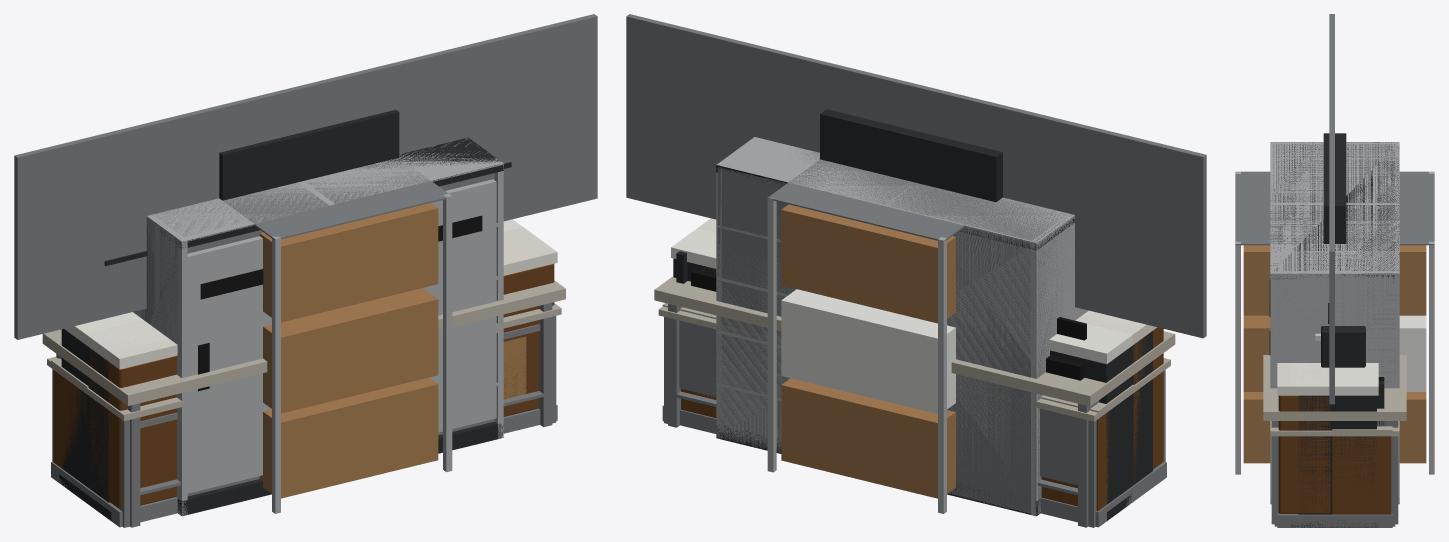
Rendered from hero-s2.glb.
3 renders of one model, left to right at view 1: azimuth 30°, elevation 25°; view 2: azimuth 150°, elevation 25°; view 3: azimuth 270°, elevation 25°, orthographic. The views are drawn at different scales.
Parts seen in each view (by area): view 1: logoWall.steel, stockShelf.cardboard, switchBoard.galv, mailCage.galv, receptionCounter.oak, liftDoor.steelDark, stockShelf.steel, sortingTable.laminate, switchBoard.steelDark, cafeCounter.steelDark, stockShelf.galv, switchBoard.steel (+8 smaller); view 2: logoWall.steel, switchBoard.steel, mailCage.galv, stockShelf.cardboard, stockShelf.white, liftDoor.steelDark, cafeCounter.steelDark, bmsDesk.steel, sortingTable.laminate, stockShelf.galv, stockShelf.steel, receptionCounter.oak (+7 smaller); view 3: mailCage.galv, receptionCounter.oak, stockShelf.cardboard, stockShelf.steel, switchBoard.steelDark, cafeCounter.steelDark, sortingTable.laminate, stockShelf.galv, logoWall.steel, switchBoard.steel, liftDoor.steelDark, cafeCounter.whiteGloss (+7 smaller).
Part boxes in pixels (x1,y1,x2,y2): logoWall.steel: (14, 14, 597, 339); stockShelf.cardboard: (259, 203, 438, 498); switchBoard.galv: (186, 179, 496, 493); mailCage.galv: (133, 138, 503, 516); receptionCounter.oak: (53, 263, 554, 509); liftDoor.steelDark: (219, 109, 399, 200); stockShelf.steel: (223, 158, 449, 240); sortingTable.laminate: (42, 280, 565, 405); switchBoard.steelDark: (156, 137, 503, 515); cafeCounter.steelDark: (59, 329, 111, 520); stockShelf.galv: (272, 194, 452, 513); switchBoard.steel: (134, 173, 494, 496); logoWall.steel: (626, 14, 1206, 338); switchBoard.steel: (717, 147, 1072, 514); mailCage.galv: (716, 137, 1088, 515); stockShelf.cardboard: (781, 204, 955, 498); stockShelf.white: (781, 289, 955, 413); liftDoor.steelDark: (820, 109, 1002, 201); cafeCounter.steelDark: (673, 258, 1152, 520); bmsDesk.steel: (664, 317, 1165, 527); sortingTable.laminate: (654, 276, 1175, 406); stockShelf.galv: (767, 197, 946, 513); stockShelf.steel: (768, 159, 964, 241); receptionCounter.oak: (681, 327, 1163, 511); mailCage.galv: (1270, 142, 1399, 504); receptionCounter.oak: (1278, 395, 1391, 514); stockShelf.cardboard: (1243, 245, 1426, 463); stockShelf.steel: (1235, 171, 1434, 245); switchBoard.steelDark: (1270, 142, 1399, 503); cafeCounter.steelDark: (1291, 326, 1377, 527); sortingTable.laminate: (1263, 355, 1406, 420); stockShelf.galv: (1235, 171, 1434, 474); logoWall.steel: (1329, 14, 1334, 404); switchBoard.steel: (1277, 144, 1398, 382); liftDoor.steelDark: (1323, 133, 1346, 243); cafeCounter.whiteGloss: (1291, 363, 1378, 395).
Bounding box in the file's own units: 4 × 2.4 × 1.42.
